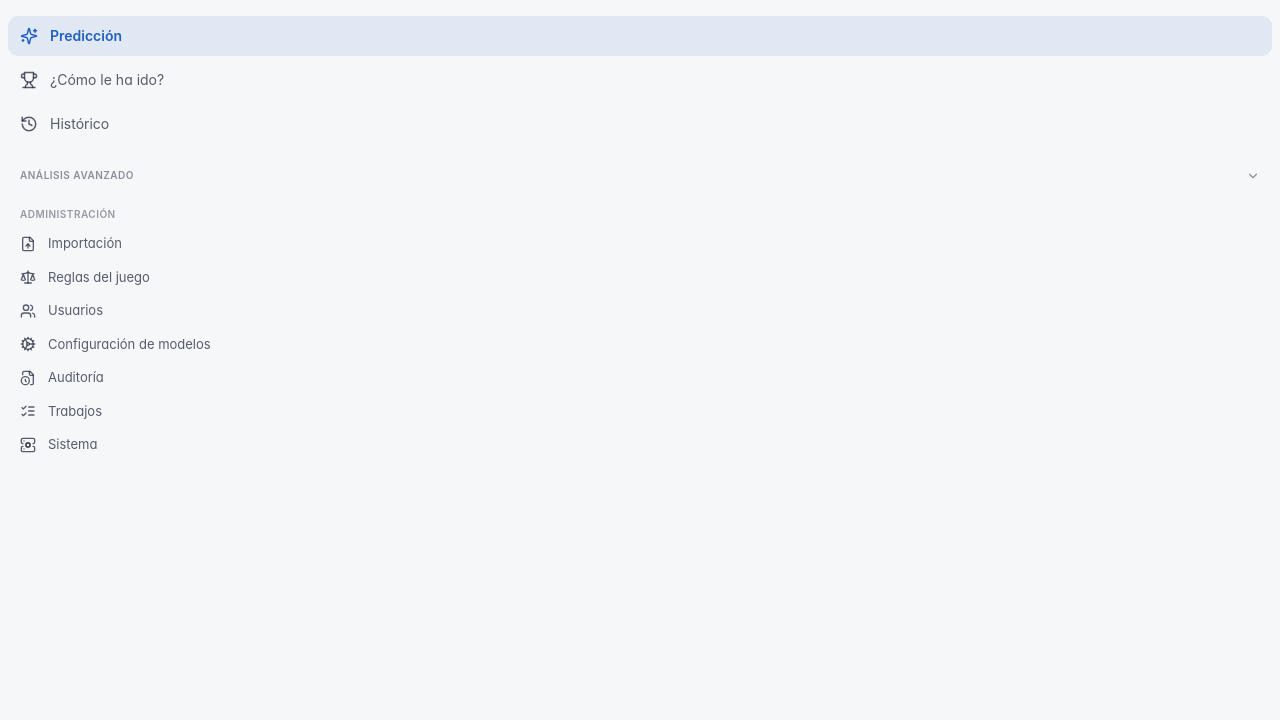
Test: navegación › el administrador ve el grupo «Análisis avanzado» plegado y Administración
Expected: the link "Estadísticas" is not shown
Expected: the text "Administración" is shown, [20,208,116,220]
Click the button "Análisis avanzado".
click(77, 175)  # box [8,164,1272,187]
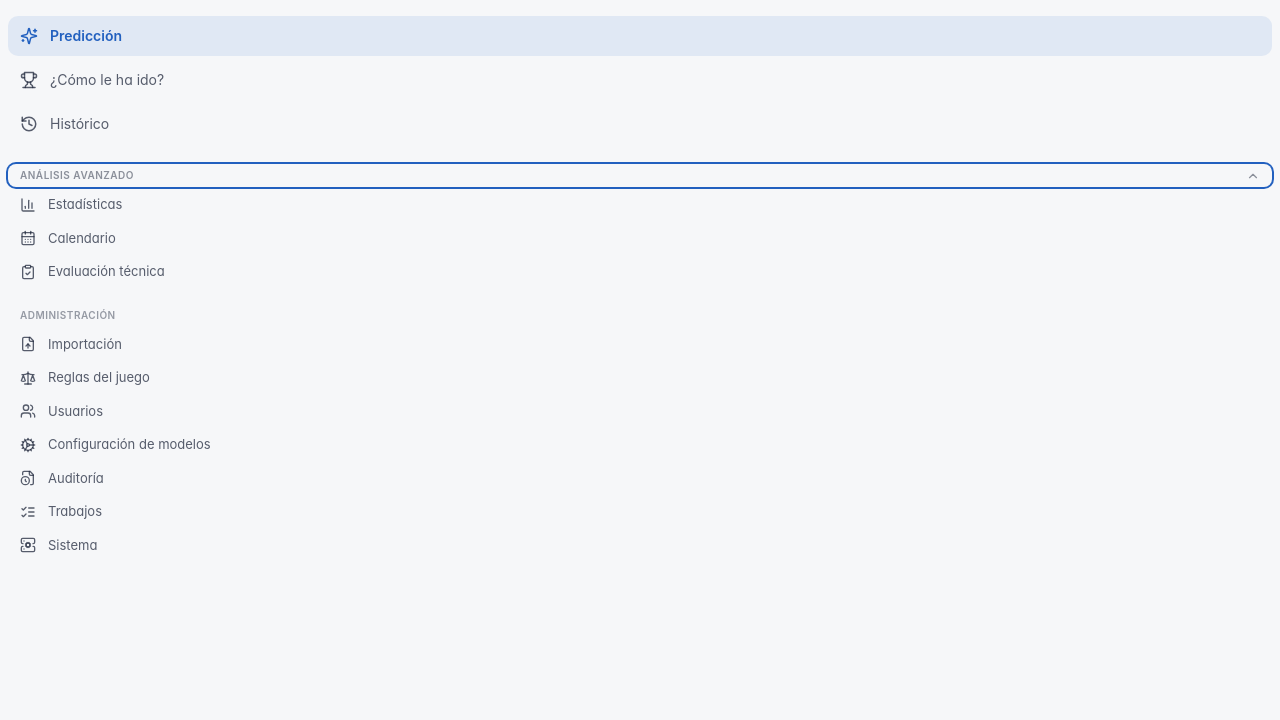
Now the link "Estadísticas" is shown, box [20,196,122,213]
Now the link "Calendario" is shown, box [20,230,116,246]
Now the link "Evaluación técnica" is shown, box [20,263,165,280]
